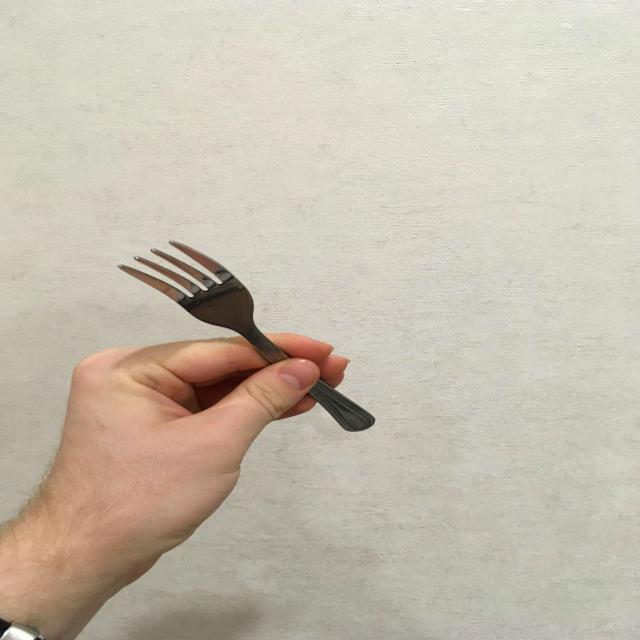fork: (114, 238, 378, 432)
